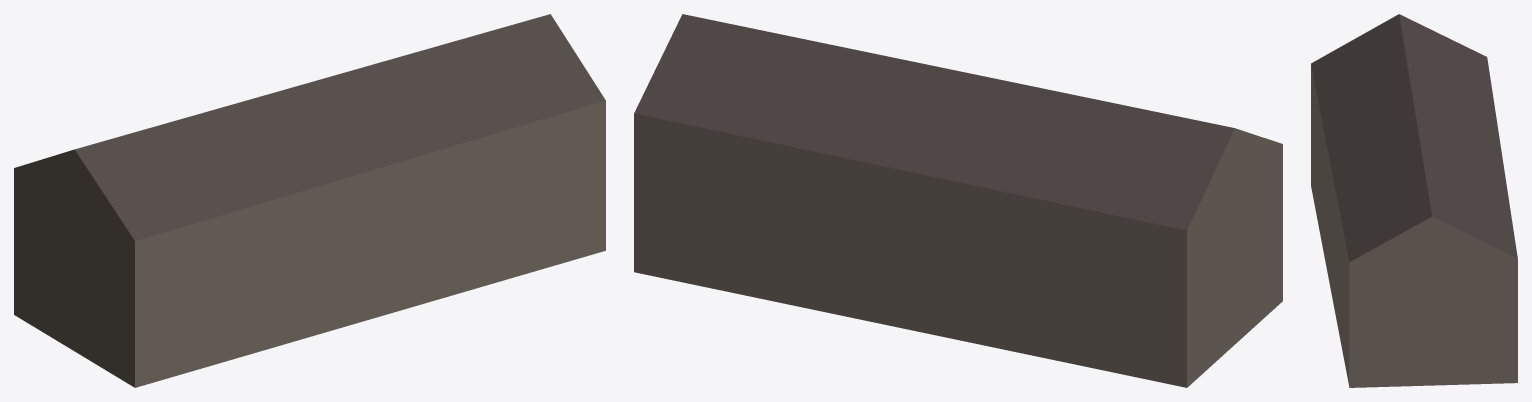
The picture shows the model from 3 angles, left to right: view 1: azimuth 30°, elevation 25°; view 2: azimuth 150°, elevation 25°; view 3: azimuth 270°, elevation 25°; orthographic projection. The views are drawn at different scales.
Visible parts, largest first — view 1: HP-w1070642156; view 2: HP-w1070642156; view 3: HP-w1070642156.
Part boxes in pixels (x1=…): HP-w1070642156: x1=14, y1=14, x2=605, y2=387; HP-w1070642156: x1=634, y1=14, x2=1282, y2=387; HP-w1070642156: x1=1311, y1=14, x2=1517, y2=387.
Bounding box in the file's own units: 32.71 × 12.39 × 13.74.
